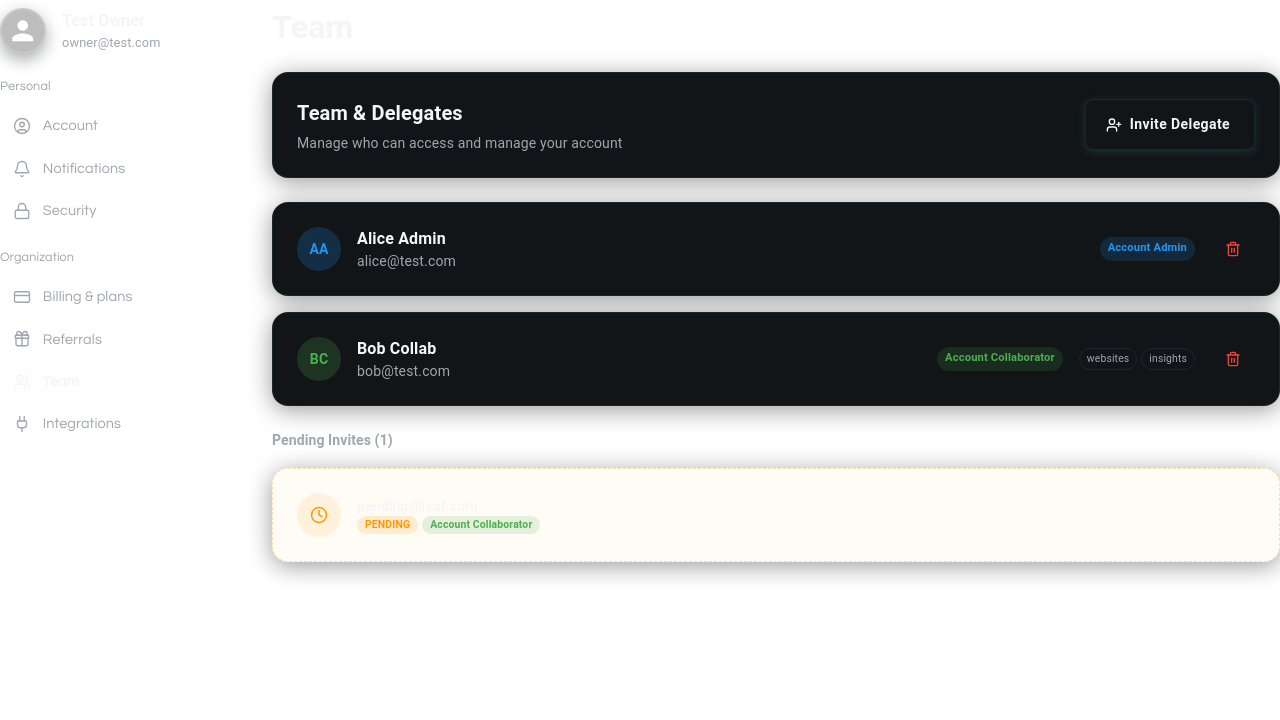
Test: AccountDelegateTeamTab › invite button opens AccountDelegateInviteModal
This screenshot has width=1280, height=720.
Expected: the text "Alice Admin" is shown, 357,228 -> 446,248
Click the button "Invite Delegate".
click(1170, 125)  # box 1085,99 -> 1255,150
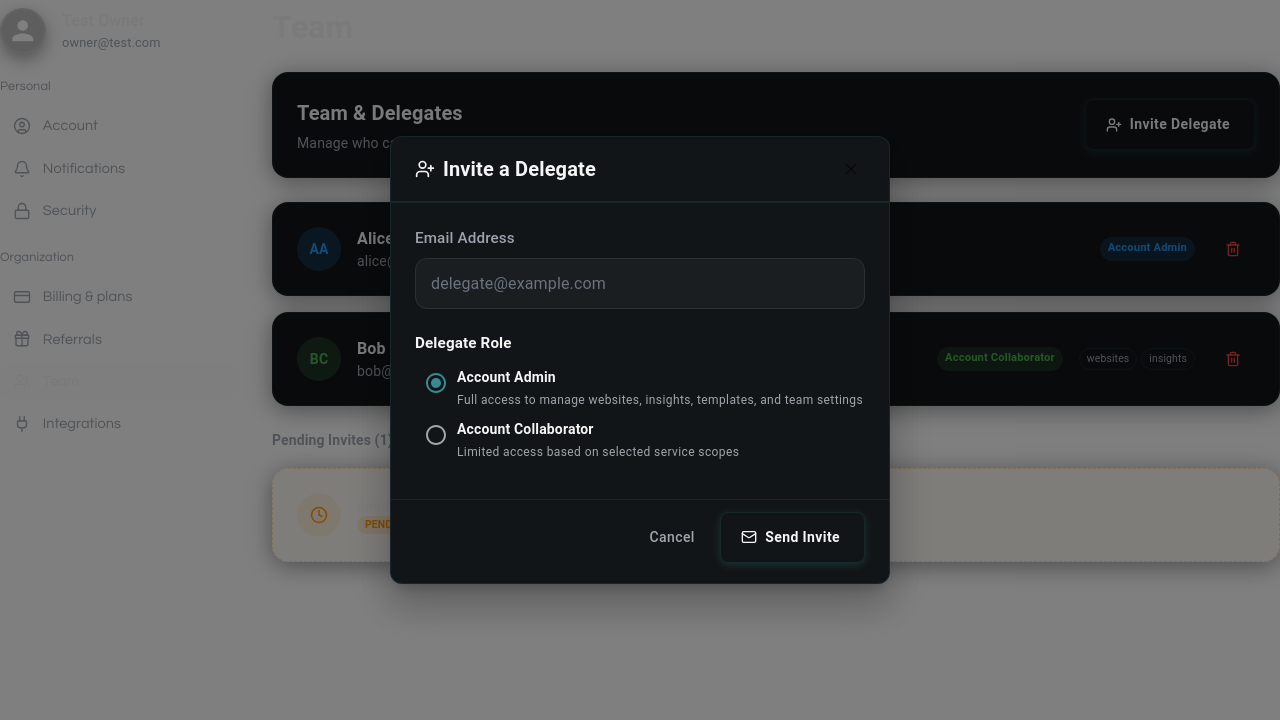
Now the heading "Invite a Delegate" is shown, box 443,153 -> 596,185
